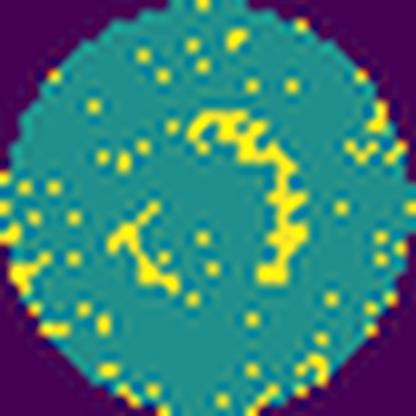Donut: (104, 105, 314, 303)
